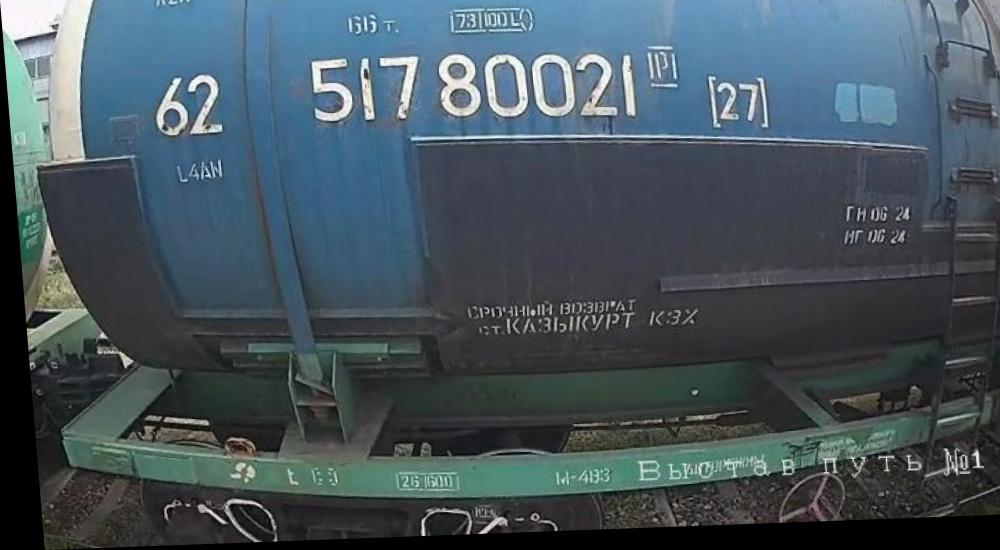Wagon-number: (304, 46, 642, 138)
